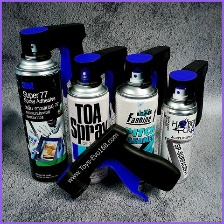aerosol_cans: (10, 41, 71, 186), (65, 66, 112, 187), (112, 69, 160, 178), (153, 82, 198, 186)
